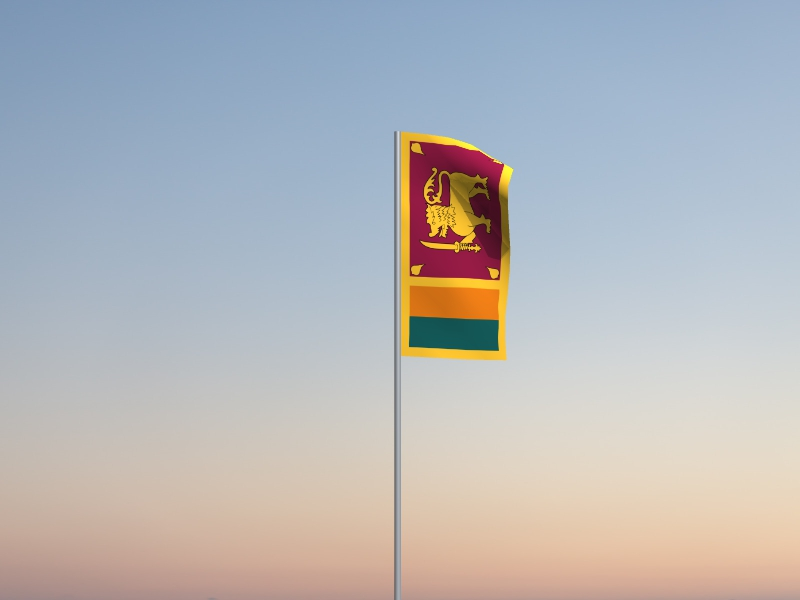lk: (401, 132, 515, 362)
